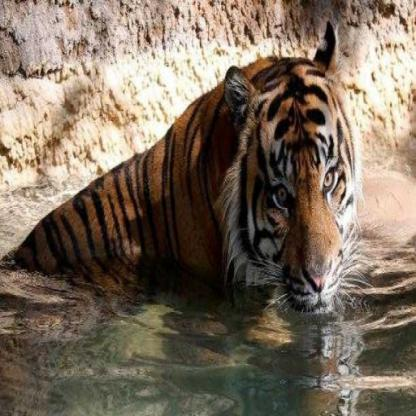Tiger: (36, 14, 381, 320)
